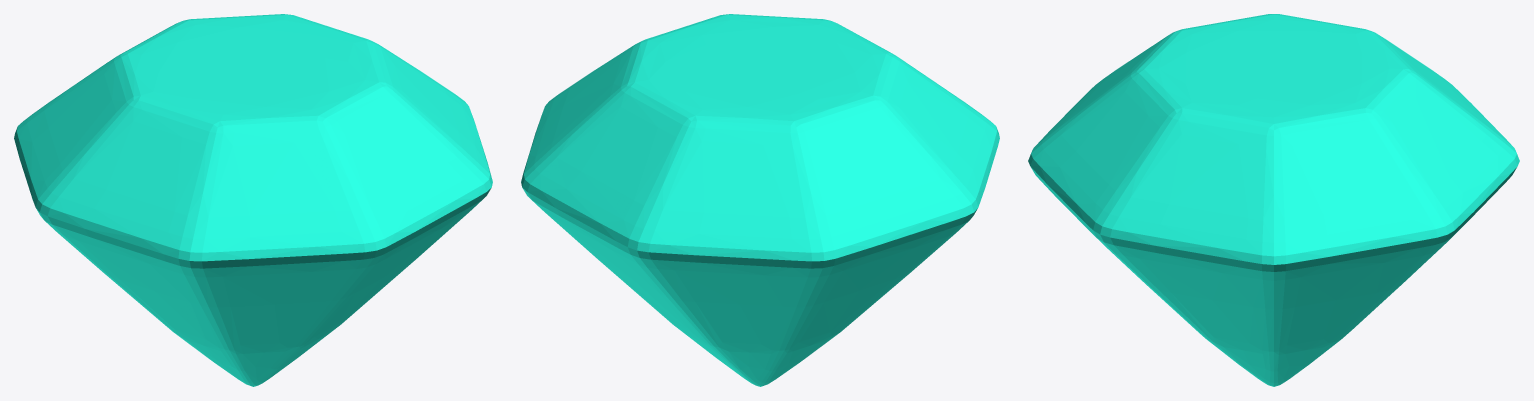
File: Diamond.obj
3 renders of one model, left to right at view 1: azimuth 30°, elevation 25°; view 2: azimuth 150°, elevation 25°; view 3: azimuth 270°, elevation 25°, orthographic.
Visible parts, largest first — view 1: Sphere001; view 2: Sphere001; view 3: Sphere001.
Part boxes in pixels (left/top/right/bottom): Sphere001: left=14, top=14, right=492, bottom=386; Sphere001: left=521, top=14, right=999, bottom=386; Sphere001: left=1028, top=14, right=1519, bottom=386.
Bounding box in the file's own units: 221493 × 158461 × 221493.
